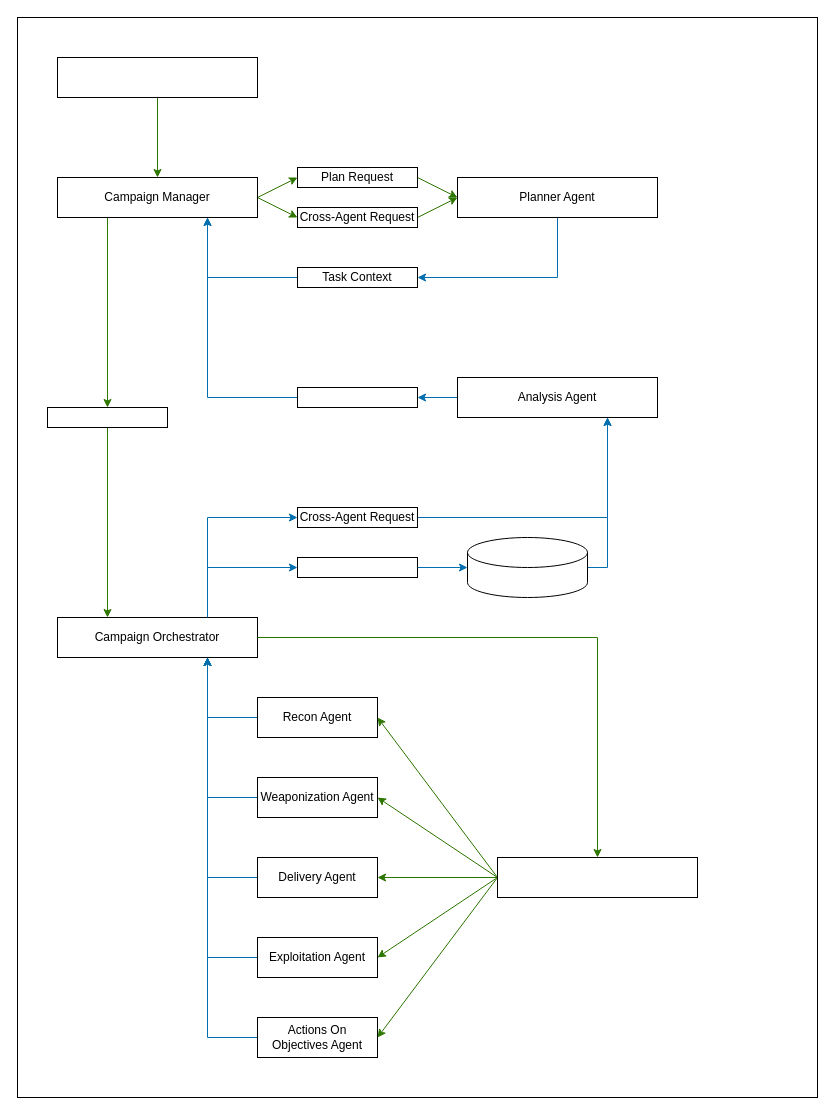
This 835x1115 diagram has some shape labels left out. Each missing label, with the centre of its shape:
"Campagin Memory" belongs at point 527,567.
"Campagin Plan" belongs at point 107,417.
"Feedback Context" belongs at point 357,397.
"Queue" belongs at point 597,877.
"Task Result" belongs at point 357,567.
"Web Dashboard" belongs at point 157,77.
